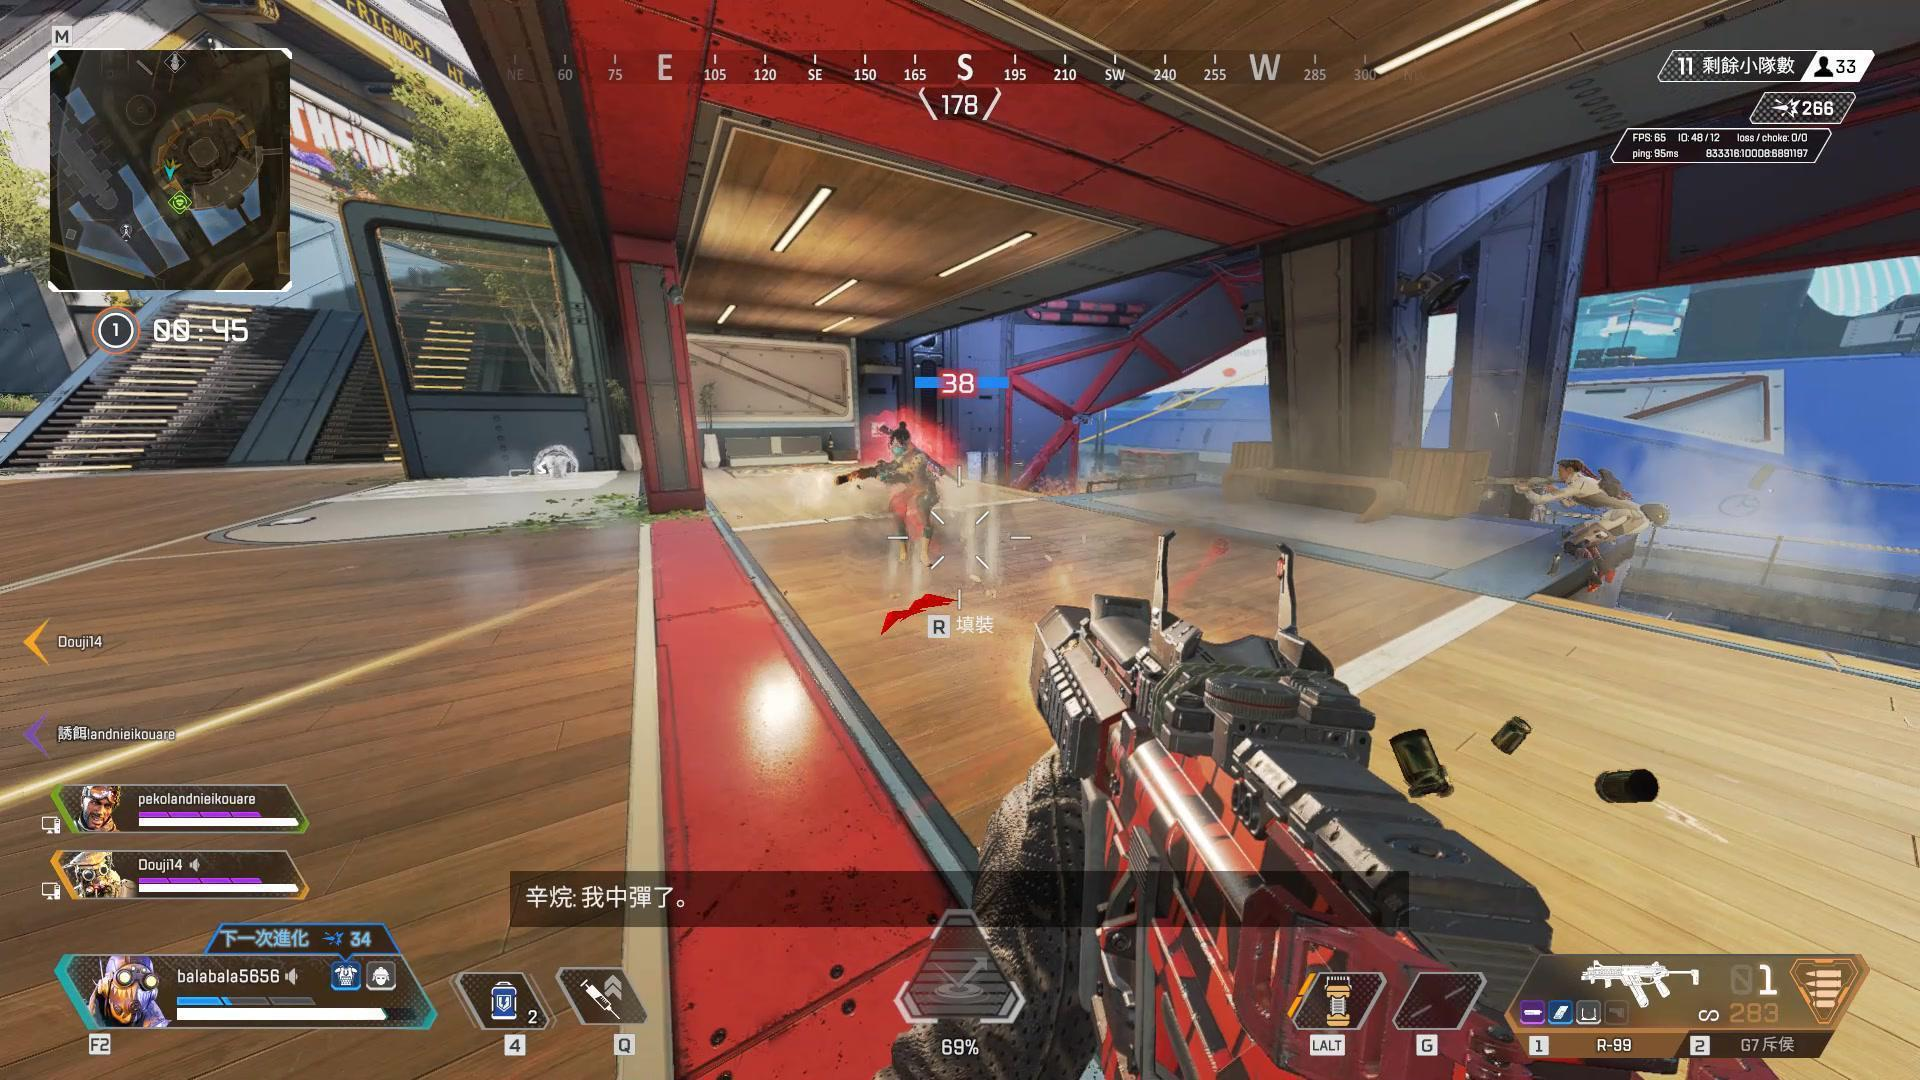avatar: (1552, 454, 1653, 593), (875, 419, 942, 568)
